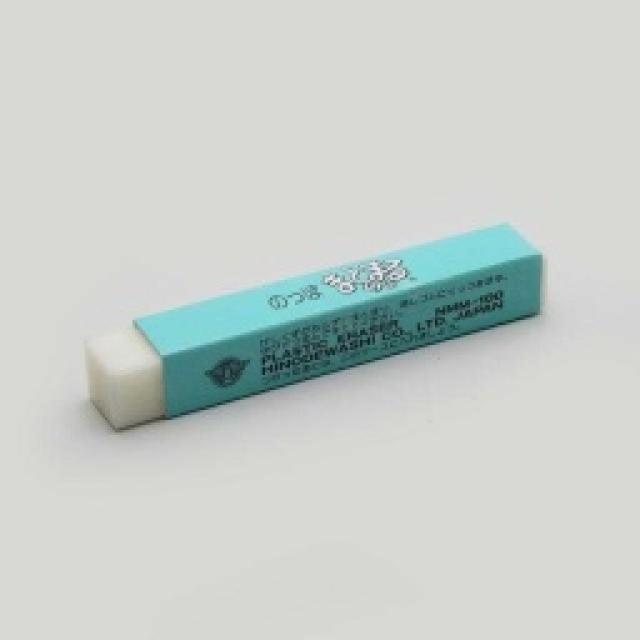Silgi: (86, 223, 543, 433)
